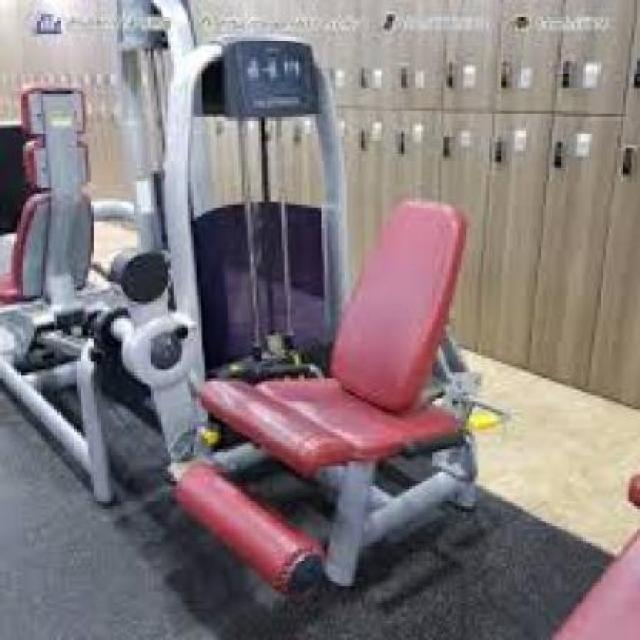leg extension: (92, 4, 516, 616)
